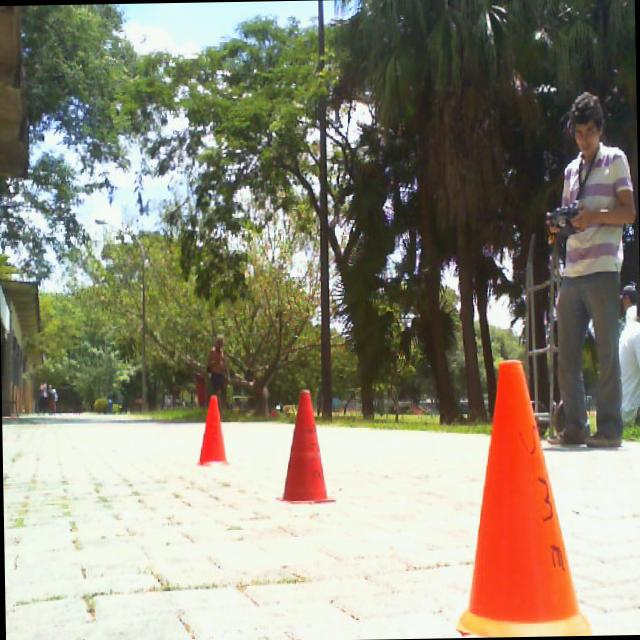cone: (450, 360, 590, 638), (275, 389, 335, 504), (195, 395, 228, 466)
